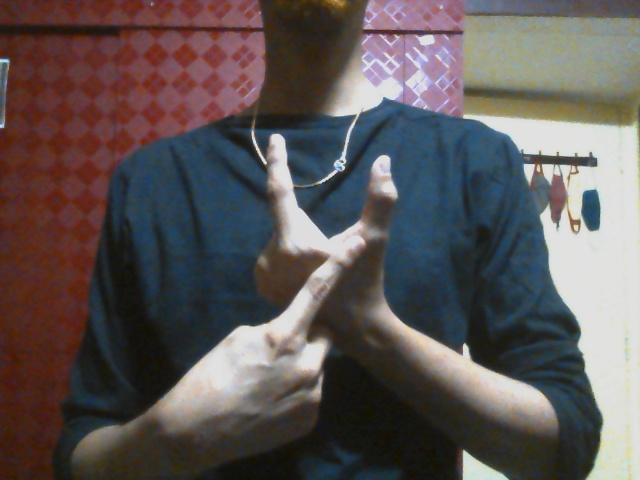Y: (208, 133, 398, 461)
